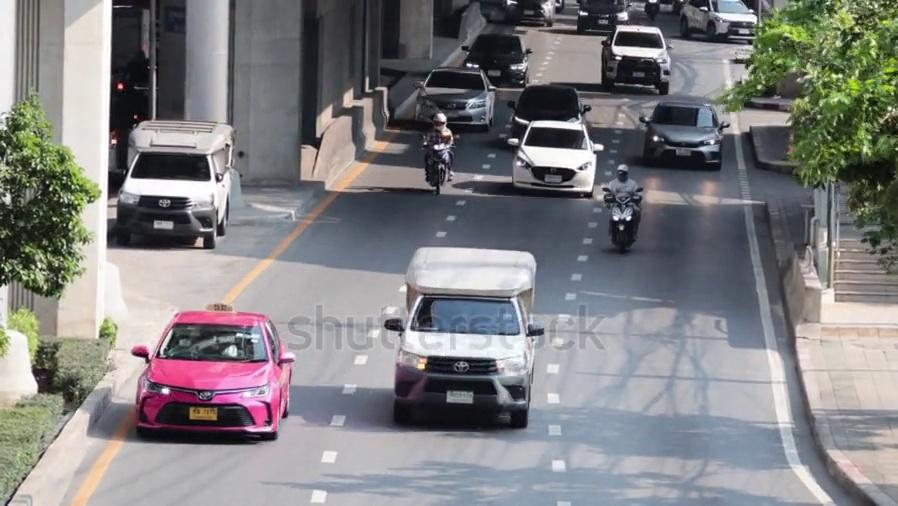rider: (601, 163, 640, 235), (421, 111, 456, 183)
with_helmate: (428, 112, 447, 129), (614, 164, 631, 181)
